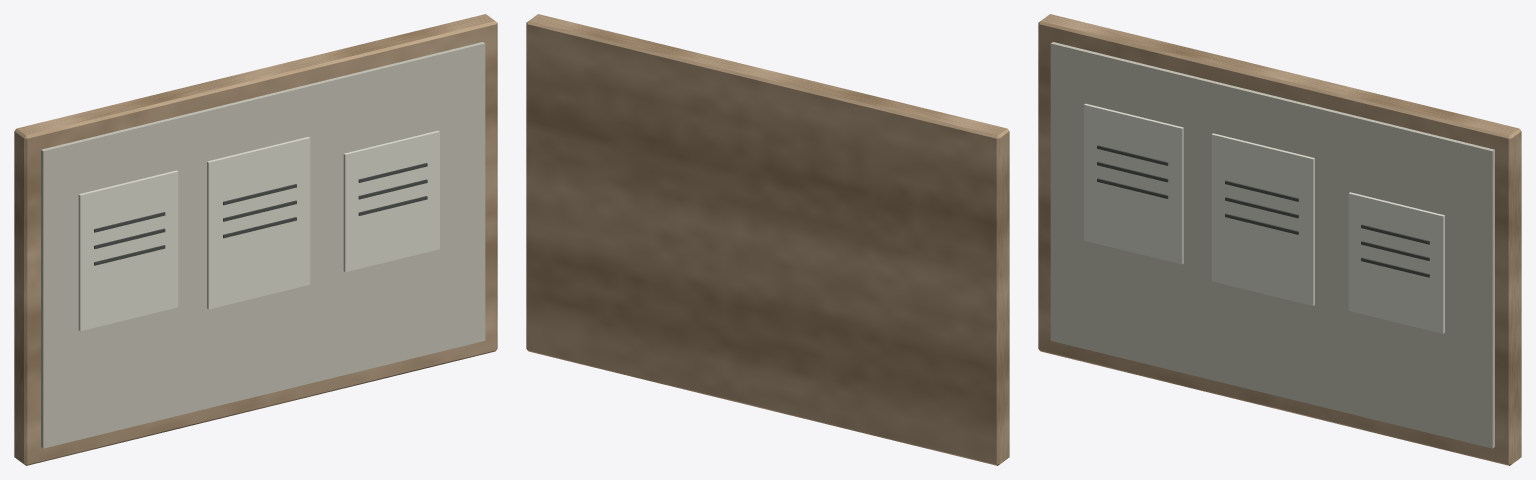
File: noticeboard.glb
The picture shows the model from 3 angles, left to right: view 1: azimuth 30°, elevation 25°; view 2: azimuth 150°, elevation 25°; view 3: azimuth 330°, elevation 25°; orthographic projection.
Parts seen in each view (by area): view 1: noticeboard; view 2: noticeboard; view 3: noticeboard.
Boxes of the visible parts, bbox=[...] form: noticeboard: bbox=[14, 14, 497, 465]; noticeboard: bbox=[526, 14, 1009, 465]; noticeboard: bbox=[1038, 14, 1521, 465].
Size of the model in its own units: 1.35 by 0.9 by 0.086.
Materials: 4 (1 with a texture image).
